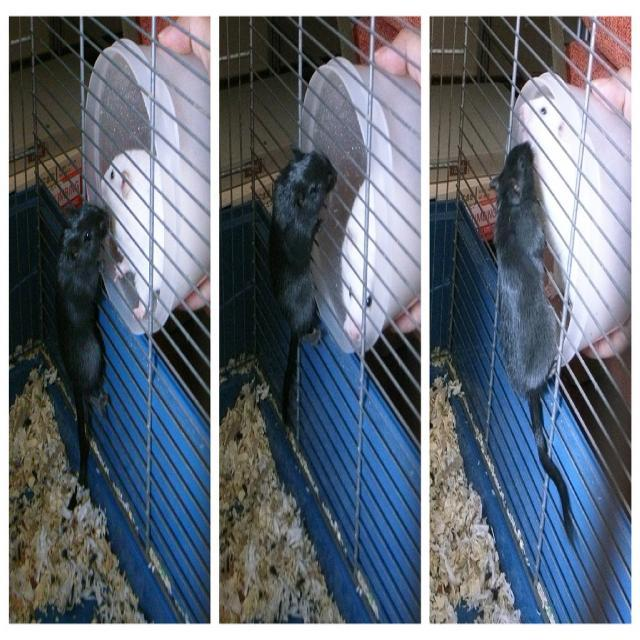rat: (481, 134, 574, 548), (263, 136, 339, 442), (516, 85, 594, 341), (50, 208, 114, 498), (97, 140, 167, 321), (333, 170, 375, 350)
